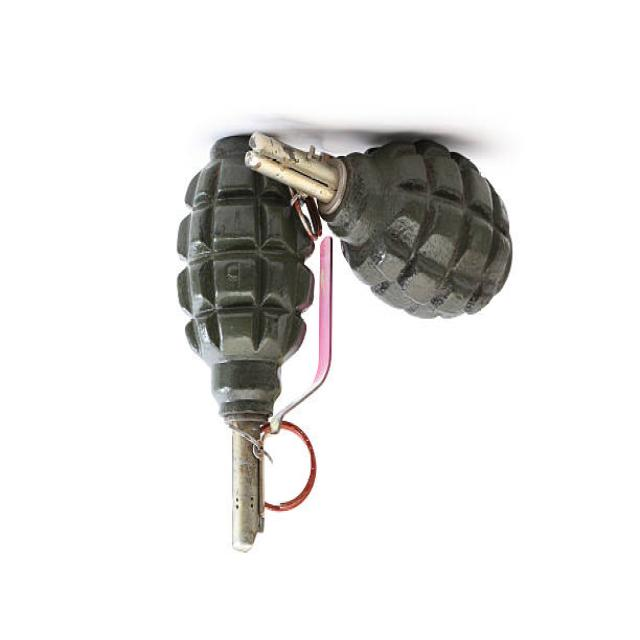grenade: (173, 134, 345, 564), (243, 121, 524, 327)
